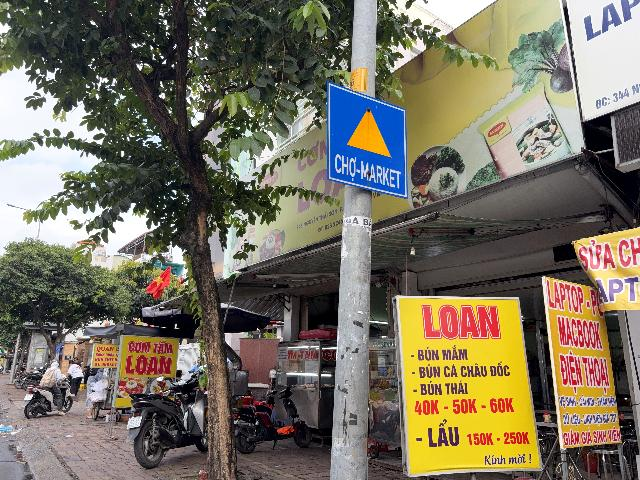khu-vuc-cho-phia-truoc: (327, 81, 408, 199)
